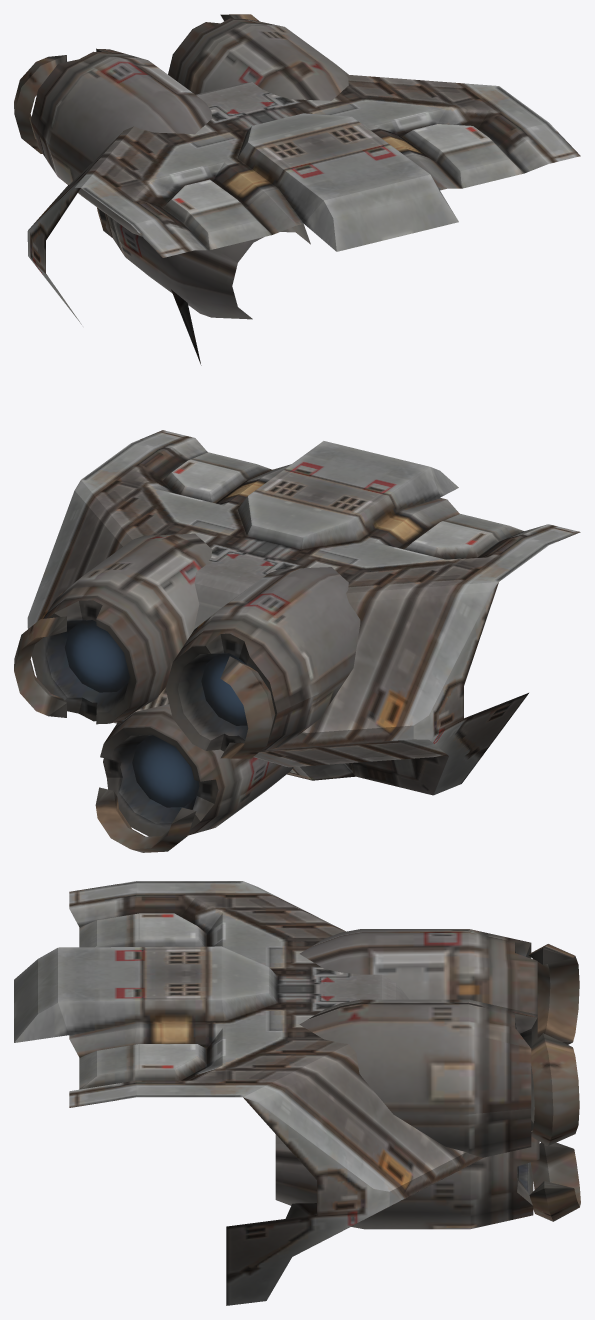
Rendered from engine_hgn_explorer_01_ion_01_t1.glb.
3 views of the same model, one above another, from view 1: azimuth 30°, elevation 25°; view 2: azimuth 150°, elevation 25°; view 3: azimuth 270°, elevation 25° (orthographic). The views are drawn at different scales.
Parts seen in each view (by area): view 1: ion_engine_t1_s_01_LOD0; view 2: ion_engine_t1_s_01_LOD0; view 3: ion_engine_t1_s_01_LOD0.
Boxes of the visible parts, bbox=[...] form: ion_engine_t1_s_01_LOD0: bbox=[14, 14, 580, 365]; ion_engine_t1_s_01_LOD0: bbox=[14, 430, 580, 852]; ion_engine_t1_s_01_LOD0: bbox=[14, 881, 580, 1305].
Size of the model in its own units: 1.99 by 0.9706 by 1.99.
Materials: 1 (1 with a texture image).
